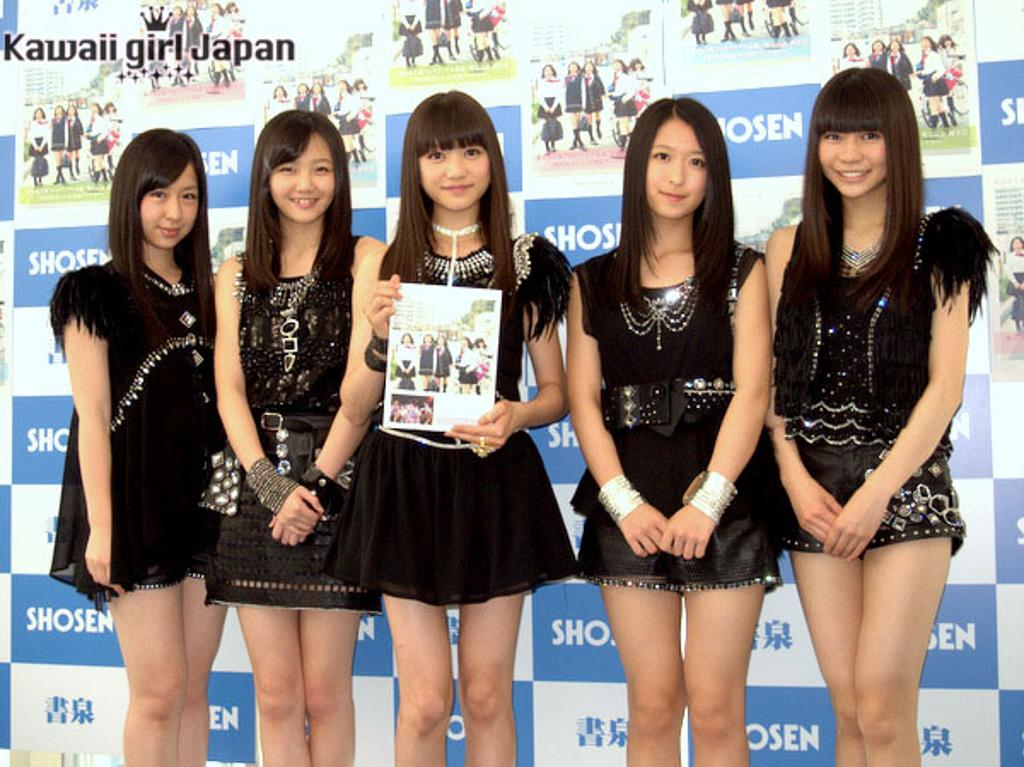face: (642, 118, 712, 216), (818, 108, 894, 198), (422, 126, 492, 212), (142, 150, 200, 246), (272, 138, 334, 220)
